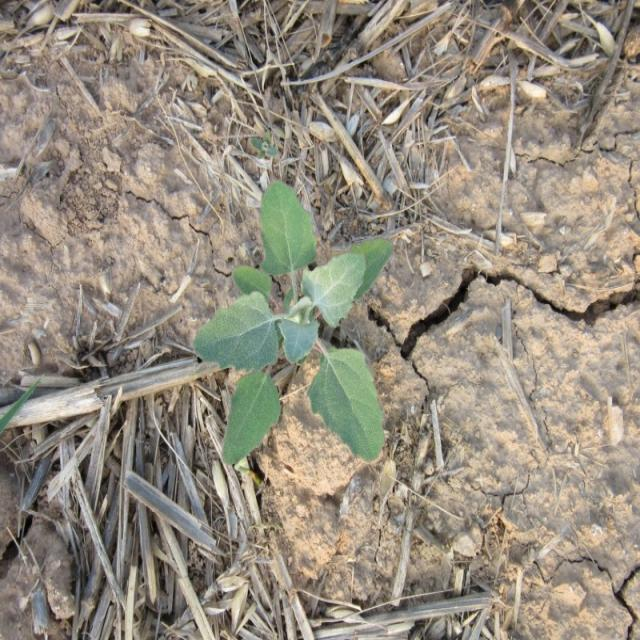ca: (196, 179, 387, 464)
